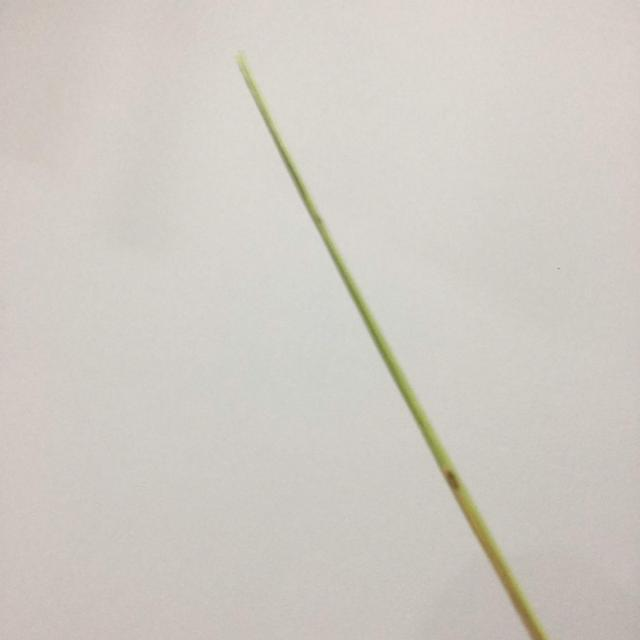Blast: (441, 467, 467, 489)
